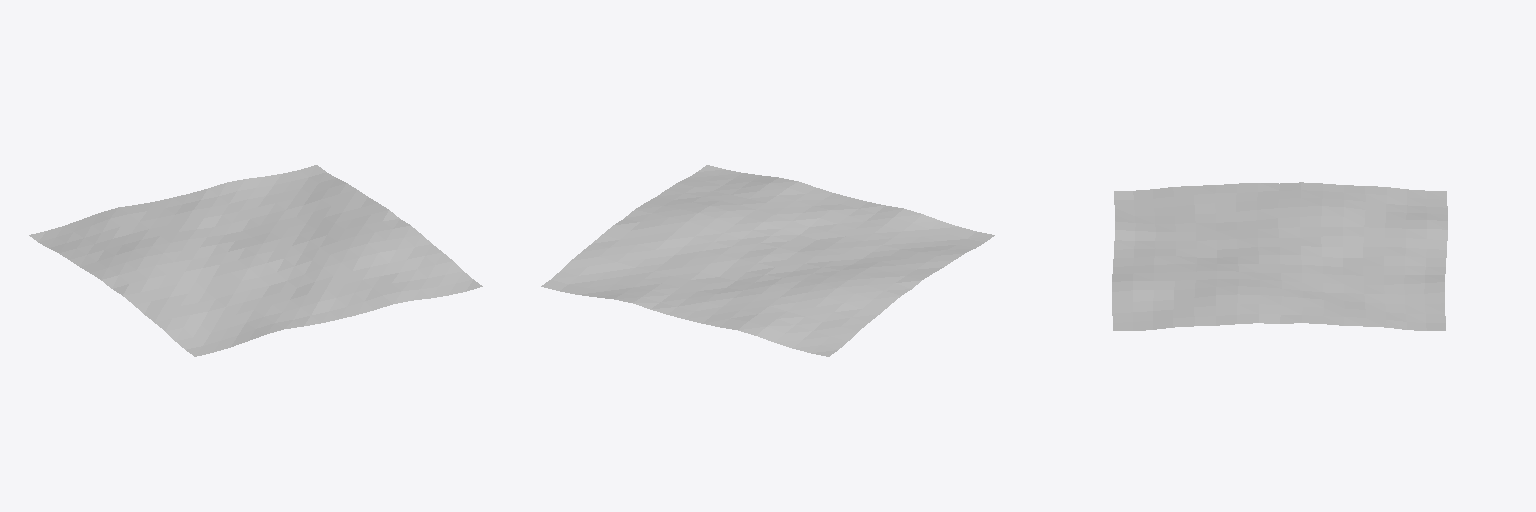
The model's file is water_000195.obj.
The picture shows the model from 3 angles: view 1: azimuth 30°, elevation 25°; view 2: azimuth 150°, elevation 25°; view 3: azimuth 270°, elevation 25°; orthographic projection.
Visible parts, largest first — view 1: Plan.003_Plan.001; view 2: Plan.003_Plan.001; view 3: Plan.003_Plan.001.
Part boxes in pixels (left/top/right/bottom): Plan.003_Plan.001: left=29, top=165, right=482, bottom=356; Plan.003_Plan.001: left=541, top=165, right=994, bottom=356; Plan.003_Plan.001: left=1112, top=182, right=1447, bottom=330.
Size of the model in its own units: 60388 by 2276 by 60978.